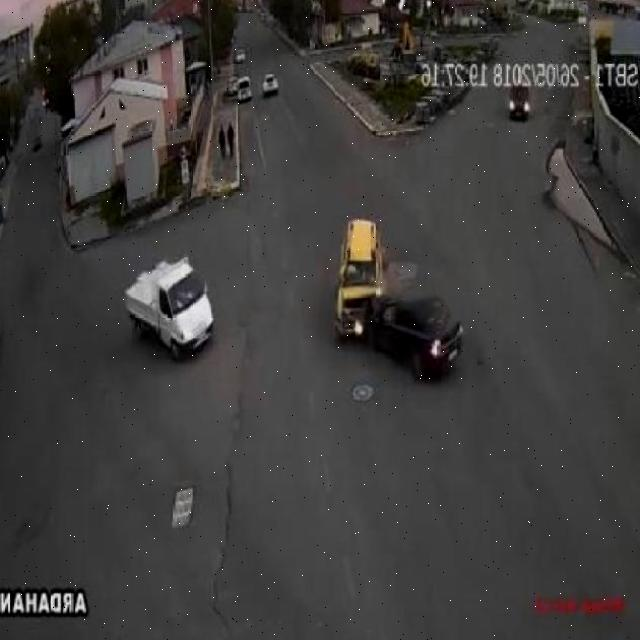accident: (334, 214, 475, 381)
